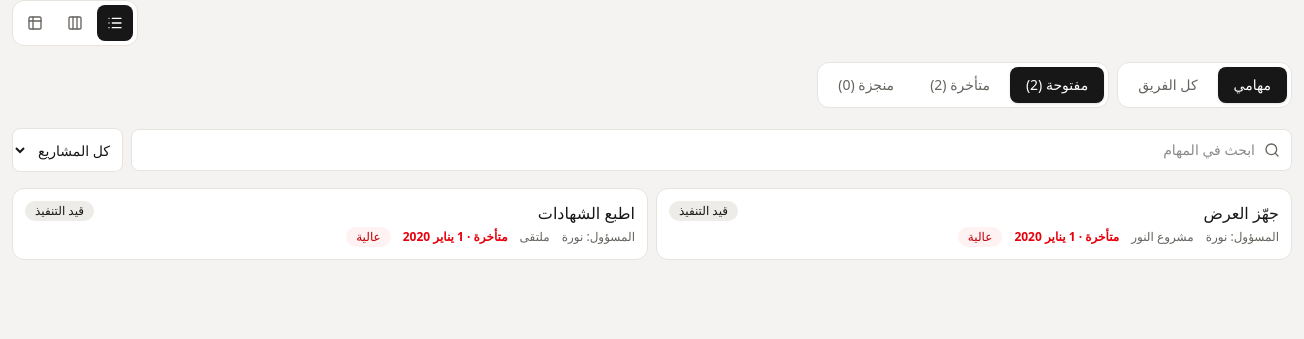
Scenario: TasksPage › filters by text and project, and lays the result out as a table
Expected: the text "اطبع الشهادات" is shown, left=538, top=202, right=635, bottom=224
Select "ملتقى" in the dropdown named "المشروع" at (68,150), box left=12, top=128, right=123, bottom=172
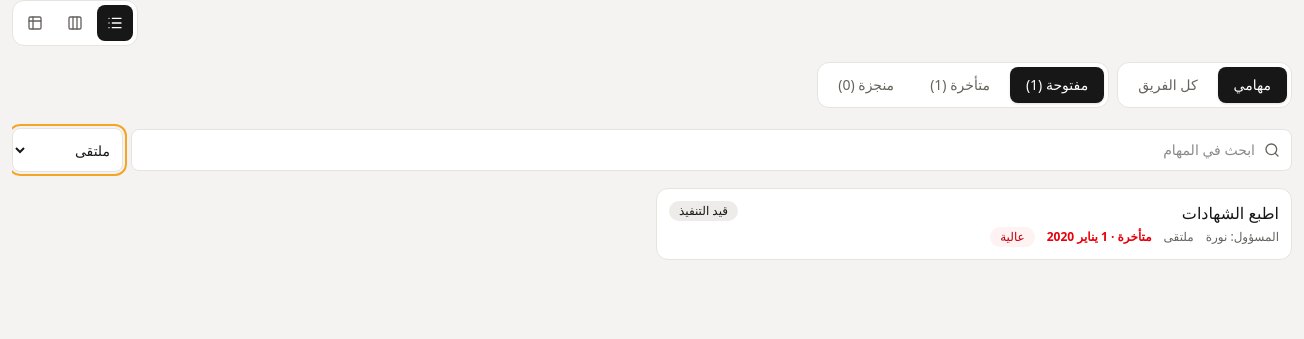
Expected: the text "جهّز العرض" is gone
Click the tab named "جدول" at (35,23), box left=17, top=5, right=53, bottom=41
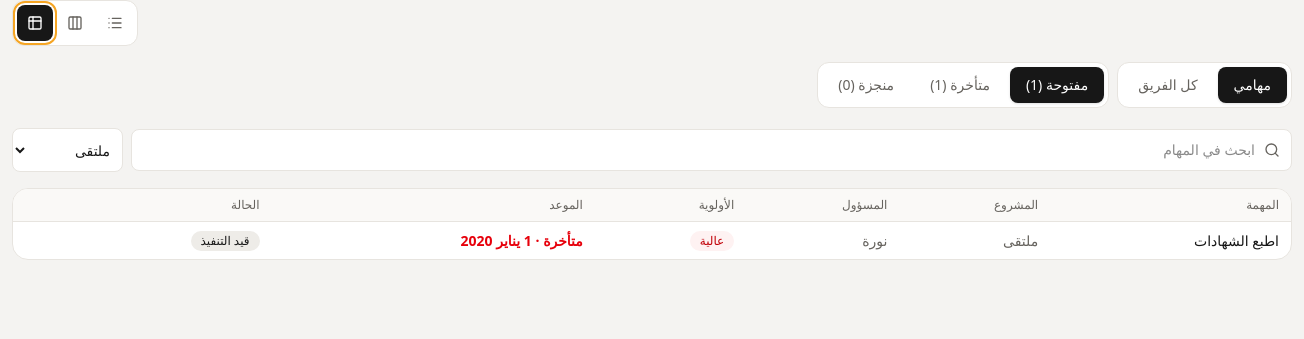
Expected: the table shows "اطبع الشهادات", left=1194, top=230, right=1279, bottom=250
Type "لا يوجد" into the search field with placeholder "ابحث في المهام" at (712,150), box left=131, top=129, right=1292, bottom=171
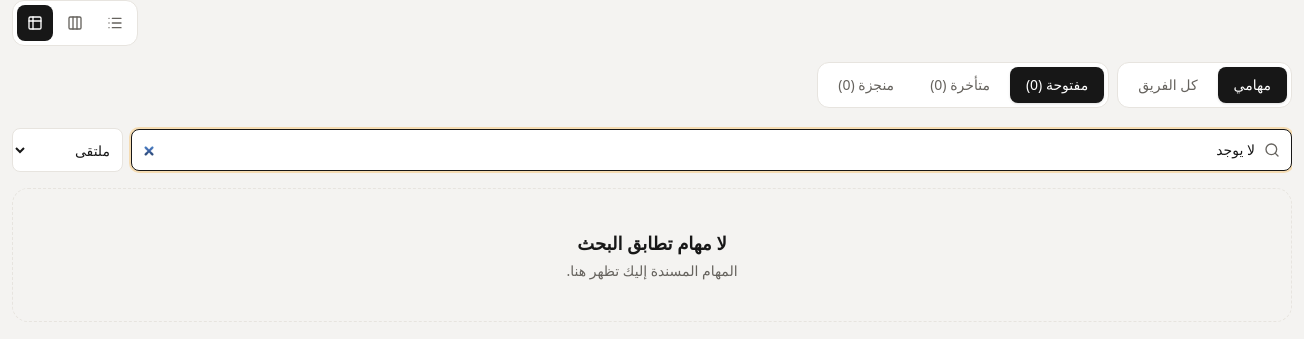
Expected: the text "لا مهام تطابق البحث" is shown, left=577, top=231, right=727, bottom=255
